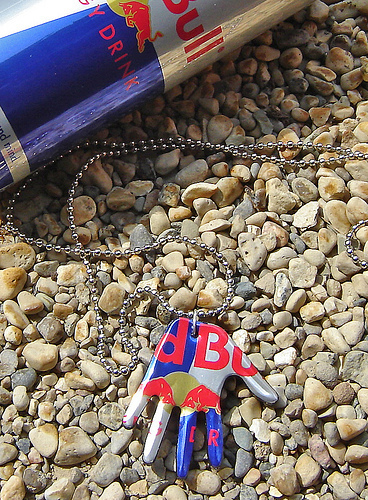litter: (2, 1, 315, 191), (125, 313, 283, 477)
